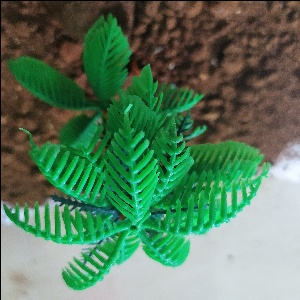plant: (4, 21, 269, 287)
